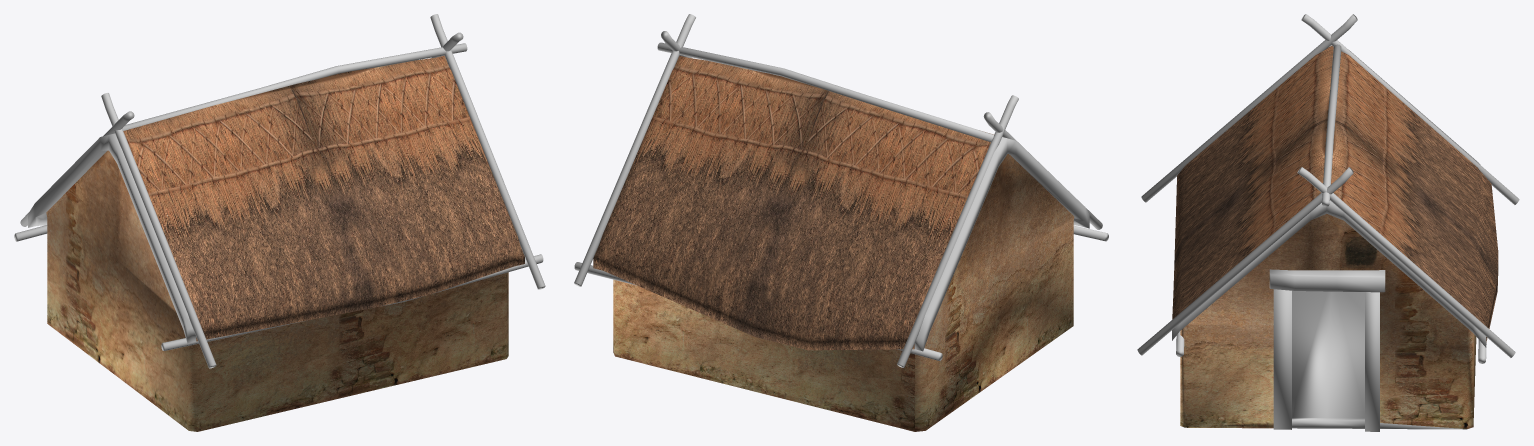
The model's file is KeepBuildingC.fbx.
The picture shows the model from 3 angles, left to right: view 1: azimuth 30°, elevation 25°; view 2: azimuth 150°, elevation 25°; view 3: azimuth 270°, elevation 25°; orthographic projection. The views are drawn at different scales.
Visible parts, largest first — view 1: KeepBuilding_C; view 2: KeepBuilding_C; view 3: KeepBuilding_C, KeepBuildingCdoorframe.
Boxes of the visible parts, bbox=[...] form: KeepBuilding_C: bbox=[14, 14, 545, 431]; KeepBuilding_C: bbox=[574, 14, 1108, 431]; KeepBuilding_C: bbox=[1137, 14, 1519, 429]; KeepBuildingCdoorframe: bbox=[1269, 269, 1385, 431].
Bounding box in the file's own units: 263 × 185 × 239.
